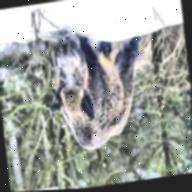boar: (35, 22, 169, 170)
